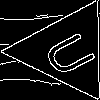U: (41, 25, 100, 80)
